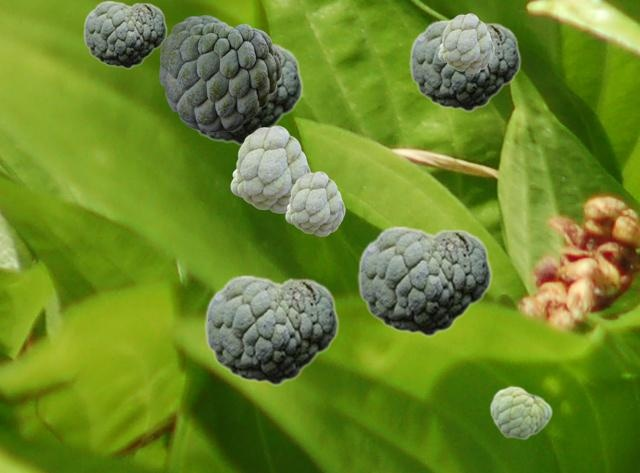atis: (204, 274, 338, 385), (357, 225, 491, 336), (159, 15, 280, 131), (182, 40, 302, 145), (409, 19, 520, 111), (230, 125, 311, 212), (83, 0, 166, 68), (285, 171, 344, 235), (489, 385, 551, 439), (438, 13, 493, 72)
